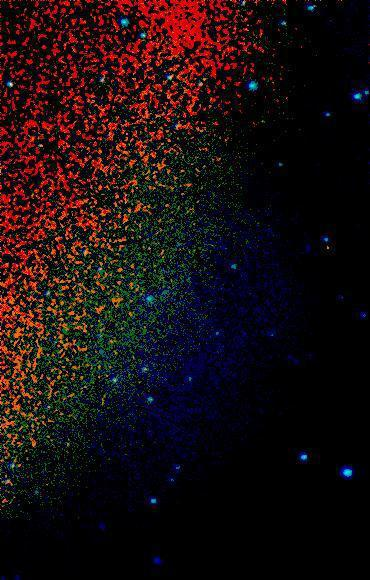star: (314, 235, 344, 265)
